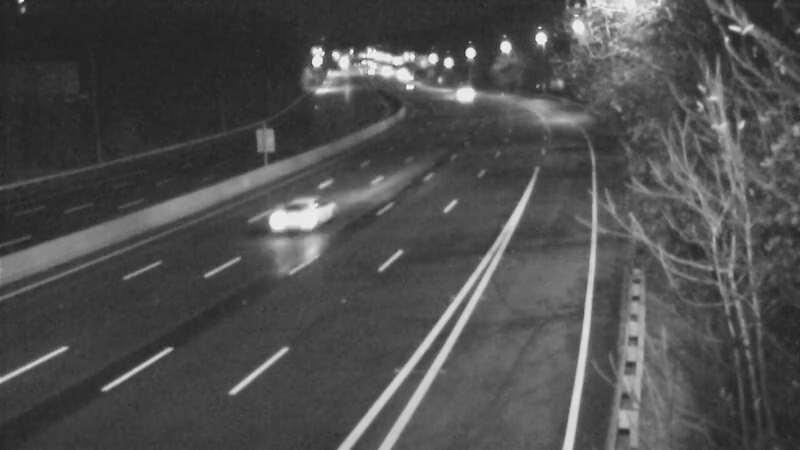vehicle: (244, 176, 324, 256), (430, 69, 480, 119)
